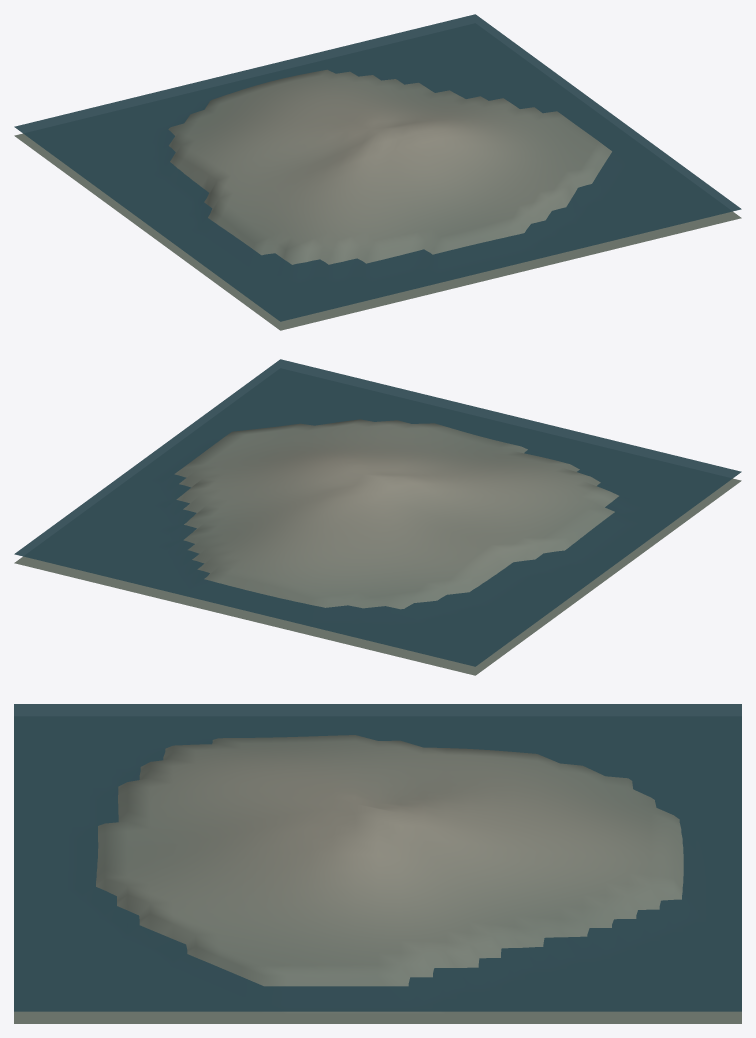
The model's file is terrain.research.glb.
3 views of the same model, one above another, from view 1: azimuth 30°, elevation 25°; view 2: azimuth 150°, elevation 25°; view 3: azimuth 270°, elevation 25° (orthographic). The views are drawn at different scales.
Parts seen in each view (by area): view 1: Interpretive primordial landmass, Primordial ocean; view 2: Interpretive primordial landmass, Primordial ocean; view 3: Interpretive primordial landmass, Primordial ocean.
Part boxes in pixels (box(x1,y1,x2,y2)): Interpretive primordial landmass: box(14, 69, 741, 330); Primordial ocean: box(14, 14, 741, 321); Interpretive primordial landmass: box(14, 419, 741, 675); Primordial ocean: box(14, 359, 741, 666); Interpretive primordial landmass: box(14, 735, 741, 1023); Primordial ocean: box(14, 704, 741, 1011).
Bounding box in the file's own units: 10 × 0.9241 × 10.
